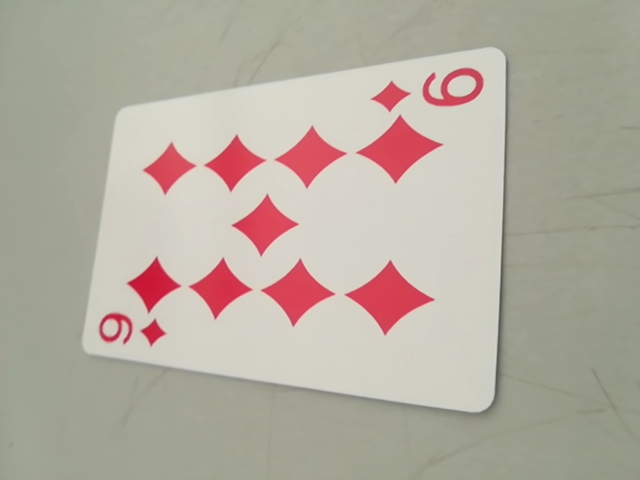fk 9: (368, 61, 491, 121), (91, 307, 175, 359)
